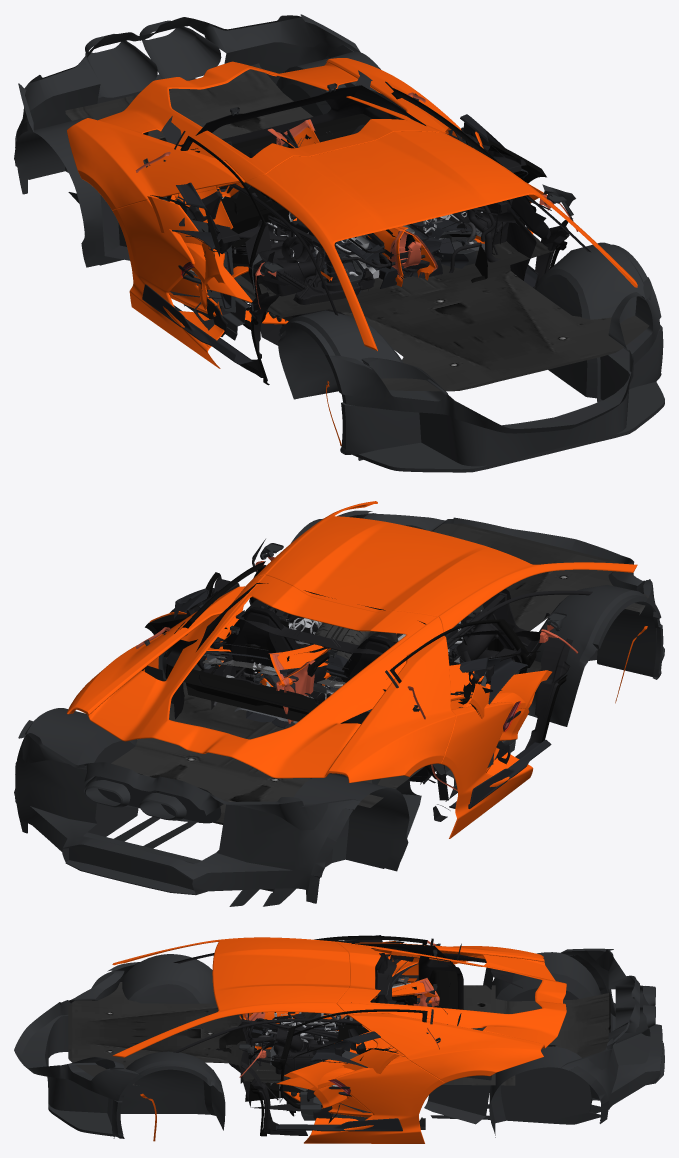
The model's file is lamborghini-revuelto.glb.
3 views of the same model, one above another, from view 1: azimuth 30°, elevation 25°; view 2: azimuth 150°, elevation 25°; view 3: azimuth 270°, elevation 25° (orthographic). The views are drawn at different scales.
Visible parts, largest first — view 1: Body_PaintedMetal, BodyGascap_CarPaint, Body_Undercarriage, EngineBay_PlasticBlack_01, PillarTrim_Alcantara, Body_CarbonFiber, BumperR_BlackFrame, BumperF_CarPaint, DoorSill_Rubber, Floor_Carpet, DoorSill_PlasticBlack_01, DoorSill_PaintedMetal (+11 smaller); view 2: BodyGascap_CarPaint, Body_PaintedMetal, Body_Undercarriage, SeatL_Alcantara, Floor_Carpet, EngineBay_PlasticBlack_01, Body_CarbonFiber, DoorSill_PlasticBlack_01, DoorSill_Rubber, Body_PlasticBlack_02, PillarTrim_Alcantara, BumperR_CarPaint (+8 smaller); view 3: Body_PaintedMetal, BodyGascap_CarPaint, Body_Undercarriage, EngineBay_PlasticBlack_01, Body_CarbonFiber, Body_PlasticBlack_02, PillarTrim_Alcantara, Floor_Carpet, DoorSill_Rubber, BumperF_CarPaint, BumperR_CarPaint, DoorSill_PlasticBlack_01 (+7 smaller).
Boxes of the visible parts, left/top/right/bottom form: Body_PaintedMetal: left=14, top=14, right=664, bottom=472; BodyGascap_CarPaint: left=67, top=58, right=637, bottom=445; Body_Undercarriage: left=65, top=63, right=649, bottom=391; EngineBay_PlasticBlack_01: left=221, top=141, right=536, bottom=345; PillarTrim_Alcantara: left=174, top=85, right=550, bottom=293; Body_CarbonFiber: left=142, top=114, right=537, bottom=364; BumperR_BlackFrame: left=200, top=139, right=546, bottom=325; BumperF_CarPaint: left=147, top=131, right=483, bottom=324; DoorSill_Rubber: left=167, top=87, right=567, bottom=385; Floor_Carpet: left=232, top=114, right=502, bottom=321; DoorSill_PlasticBlack_01: left=174, top=81, right=572, bottom=381; DoorSill_PaintedMetal: left=143, top=93, right=575, bottom=340; BodyGascap_CarPaint: left=67, top=501, right=647, bottom=838; Body_PaintedMetal: left=14, top=510, right=664, bottom=906; Body_Undercarriage: left=111, top=523, right=648, bottom=824; SeatL_Alcantara: left=223, top=607, right=436, bottom=784; Floor_Carpet: left=183, top=627, right=514, bottom=723; EngineBay_PlasticBlack_01: left=211, top=588, right=537, bottom=709; Body_CarbonFiber: left=162, top=587, right=551, bottom=808; DoorSill_PlasticBlack_01: left=174, top=565, right=573, bottom=821; DoorSill_Rubber: left=164, top=561, right=567, bottom=779; Body_PlasticBlack_02: left=142, top=590, right=592, bottom=800; PillarTrim_Alcantara: left=165, top=582, right=549, bottom=783; BumperR_CarPaint: left=205, top=658, right=552, bottom=740; Body_PaintedMetal: left=14, top=943, right=664, bottom=1138; BodyGascap_CarPaint: left=112, top=937, right=566, bottom=1143; Body_Undercarriage: left=68, top=982, right=610, bottom=1085; EngineBay_PlasticBlack_01: left=240, top=977, right=408, bottom=1111; Body_CarbonFiber: left=276, top=935, right=402, bottom=1131; Body_PlasticBlack_02: left=173, top=953, right=522, bottom=1052; PillarTrim_Alcantara: left=216, top=943, right=463, bottom=1063; Floor_Carpet: left=219, top=969, right=457, bottom=1092; DoorSill_Rubber: left=251, top=935, right=427, bottom=1136; BumperF_CarPaint: left=284, top=941, right=399, bottom=1117; BumperR_CarPaint: left=284, top=1059, right=347, bottom=1108; DoorSill_PlasticBlack_01: left=241, top=938, right=433, bottom=1135.
Bounding box in the file's own units: 66578 × 33719 × 158037.
Materials: 50 (12 with a texture image).
